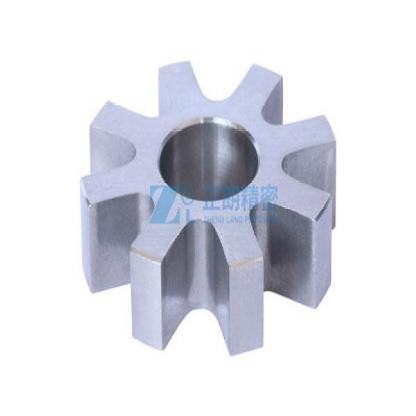FOD: (76, 57, 339, 360)
